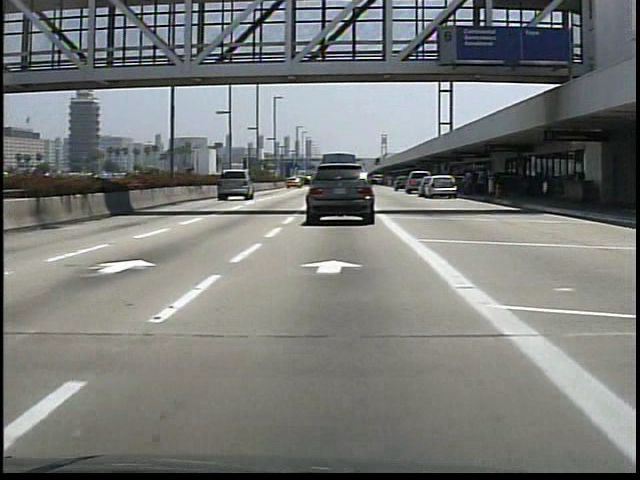person: (473, 162, 487, 198), (461, 167, 476, 199)
